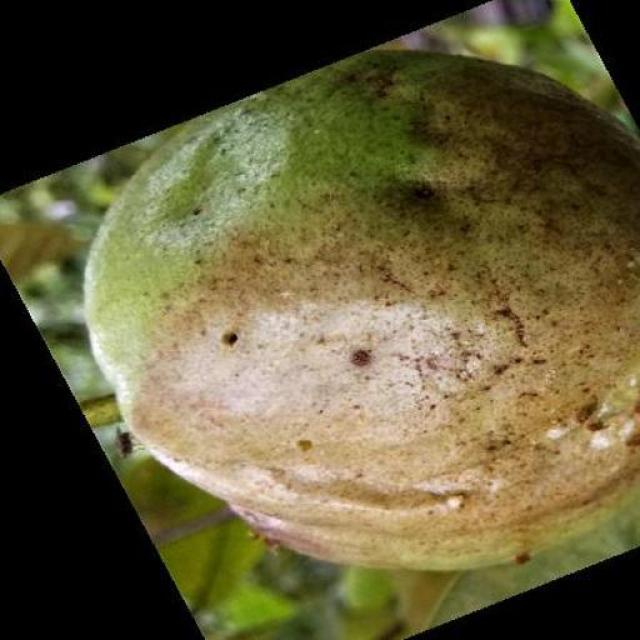Styler_Root: (85, 51, 640, 569)
